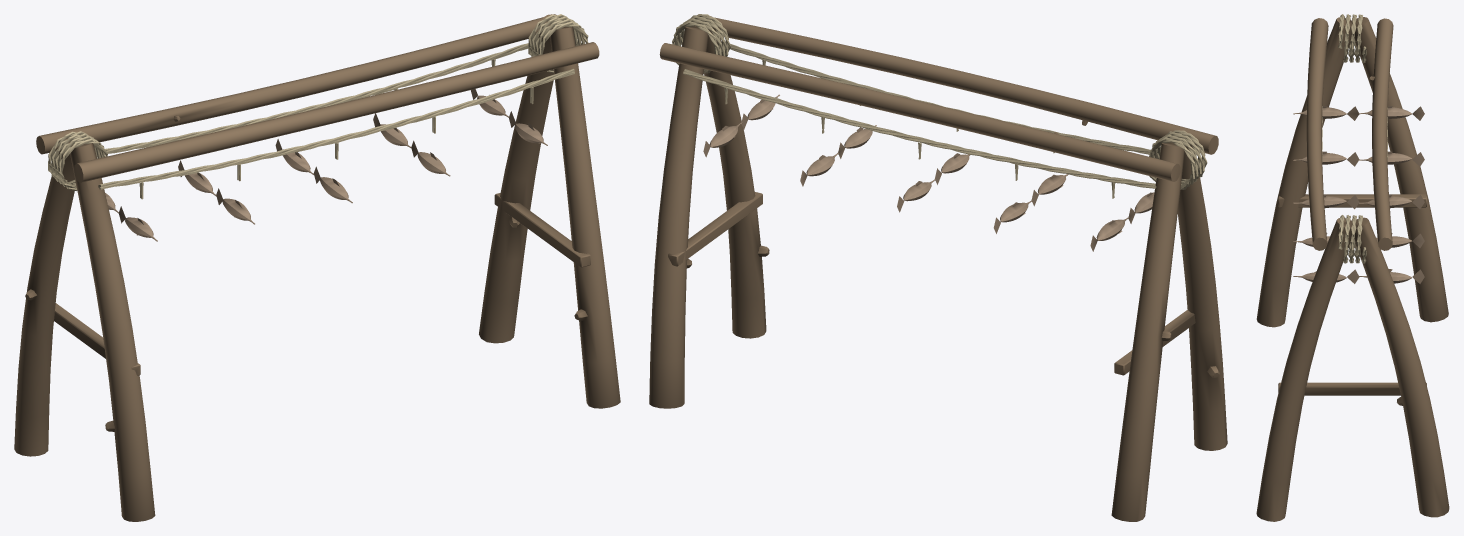
The model's file is berk_drying_rack.glb.
3 views of the same model, side by side, from view 1: azimuth 30°, elevation 25°; view 2: azimuth 150°, elevation 25°; view 3: azimuth 270°, elevation 25° (orthographic). The views are drawn at different scales.
Parts seen in each view (by area): view 1: berk_drying_rack; view 2: berk_drying_rack; view 3: berk_drying_rack.
Boxes of the visible parts, box(x1,y1,x2,y2) form: berk_drying_rack: box(14, 14, 620, 521); berk_drying_rack: box(649, 14, 1227, 521); berk_drying_rack: box(1256, 14, 1449, 521).
Bounding box in the file's own units: 3.53 × 2.22 × 1.3.
